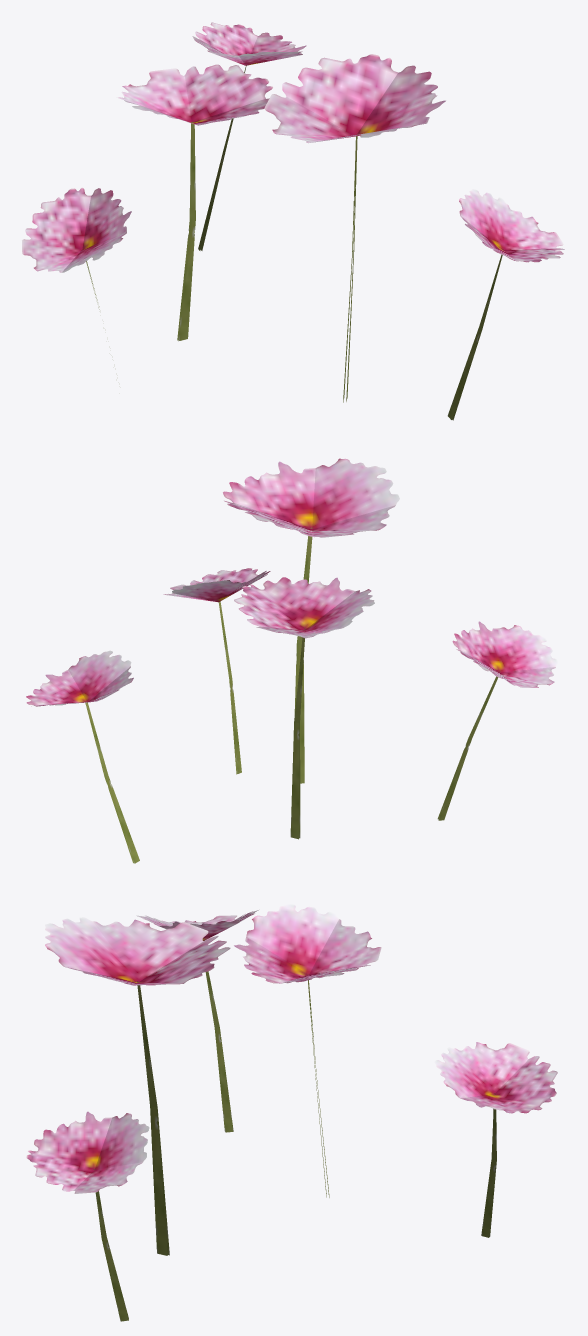
The model's file is Flower_001.fbx.
3 renders of one model, top to bottom at view 1: azimuth 30°, elevation 25°; view 2: azimuth 150°, elevation 25°; view 3: azimuth 270°, elevation 25°, orthographic. The views are drawn at different scales.
Parts seen in each view (by area): view 1: FlowerPatch_001; view 2: FlowerPatch_001; view 3: FlowerPatch_001.
Boxes of the visible parts, box(x1,y1,x2,y2) form: FlowerPatch_001: box(22, 22, 564, 420); FlowerPatch_001: box(26, 458, 558, 863); FlowerPatch_001: box(26, 903, 557, 1321).
Size of the model in its own units: 100 by 66.24 by 97.48.
